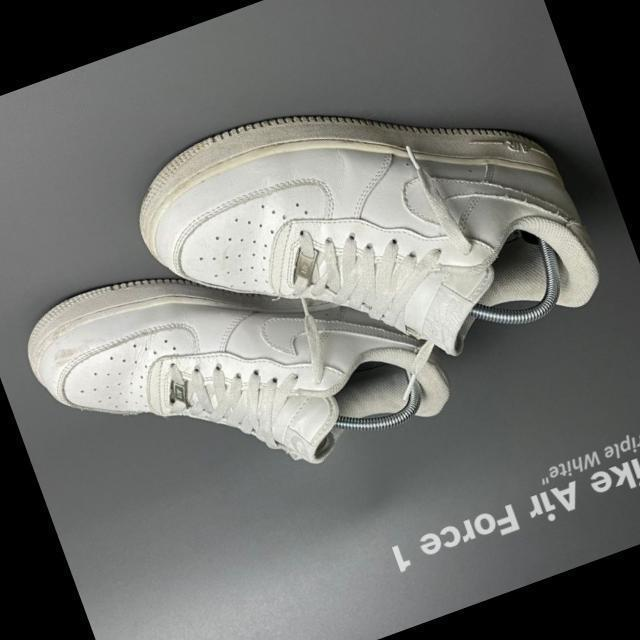nike fake air force: (113, 15, 632, 443), (1, 171, 484, 545)
